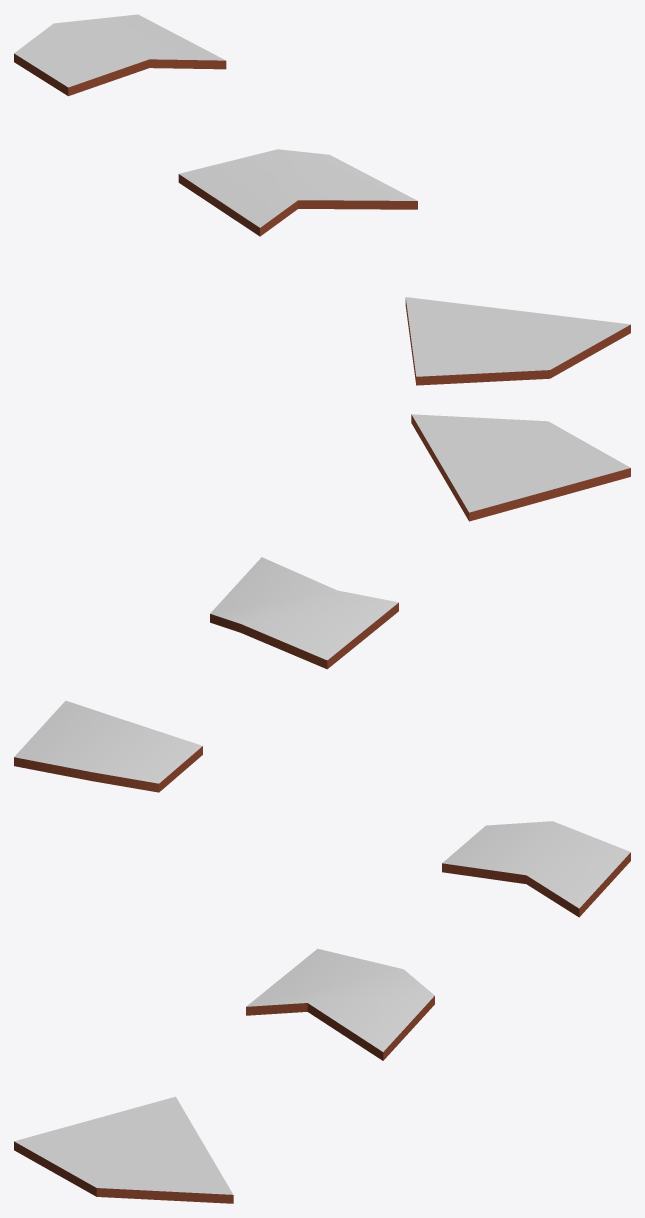
The model's file is cocci.fbx.
The picture shows the model from 3 angles, top to bottom: view 1: azimuth 30°, elevation 25°; view 2: azimuth 150°, elevation 25°; view 3: azimuth 330°, elevation 25°; orthographic projection. The views are drawn at different scales.
Parts seen in each view (by area): view 1: Coccio, Coccio.001, Coccio.002; view 2: Coccio, Coccio.001, Coccio.002; view 3: Coccio, Coccio.001, Coccio.002.
Boxes of the visible parts, <box> form: Coccio: <box>405,297,630,385</box>; Coccio.001: <box>178,149,417,236</box>; Coccio.002: <box>14,14,226,96</box>; Coccio: <box>411,414,630,521</box>; Coccio.001: <box>210,557,398,669</box>; Coccio.002: <box>14,700,202,792</box>; Coccio: <box>14,1096,233,1203</box>; Coccio.001: <box>246,948,434,1060</box>; Coccio.002: <box>442,821,630,917</box>.
Size of the model in its own units: 33.3 by 2.44 by 127.
